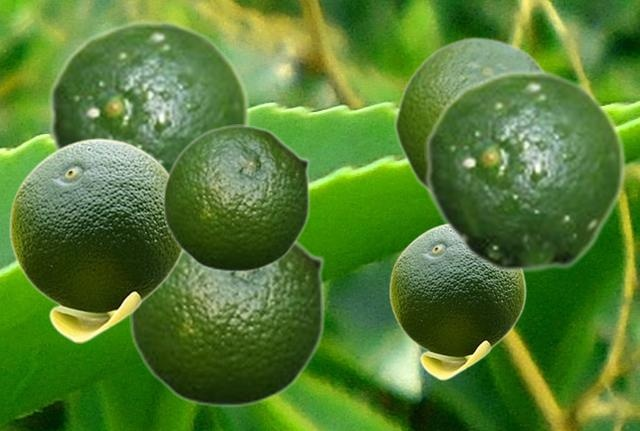calamansi: (424, 69, 626, 273), (9, 138, 184, 342), (129, 239, 325, 407), (48, 19, 250, 169), (393, 35, 546, 193), (162, 124, 310, 272), (389, 222, 525, 379)
